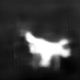plane: (20, 29, 74, 70)
